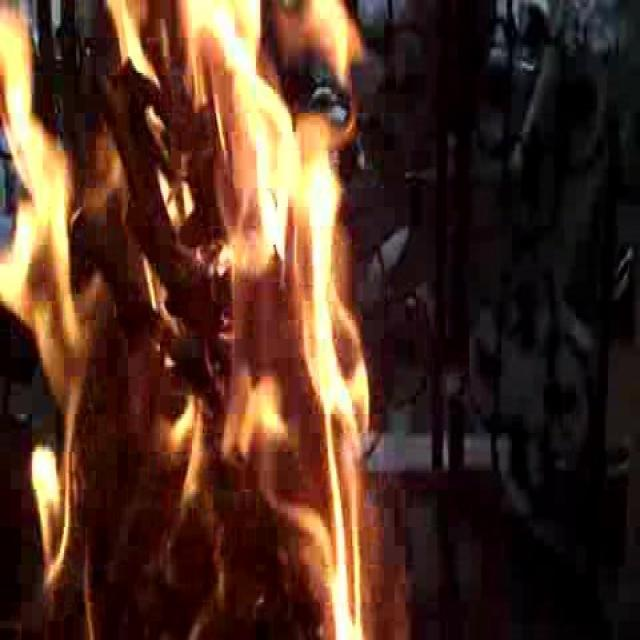Fire: (8, 8, 376, 630)
